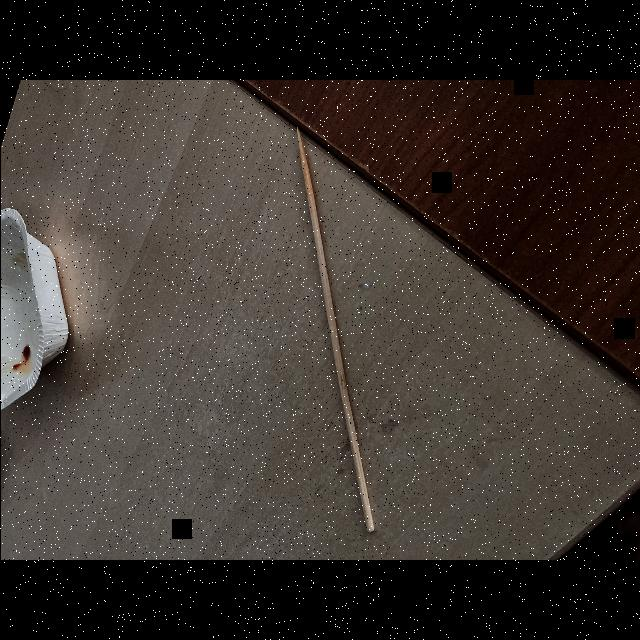cardboard_bowl: (0, 188, 81, 418)
stick: (282, 118, 402, 544)
